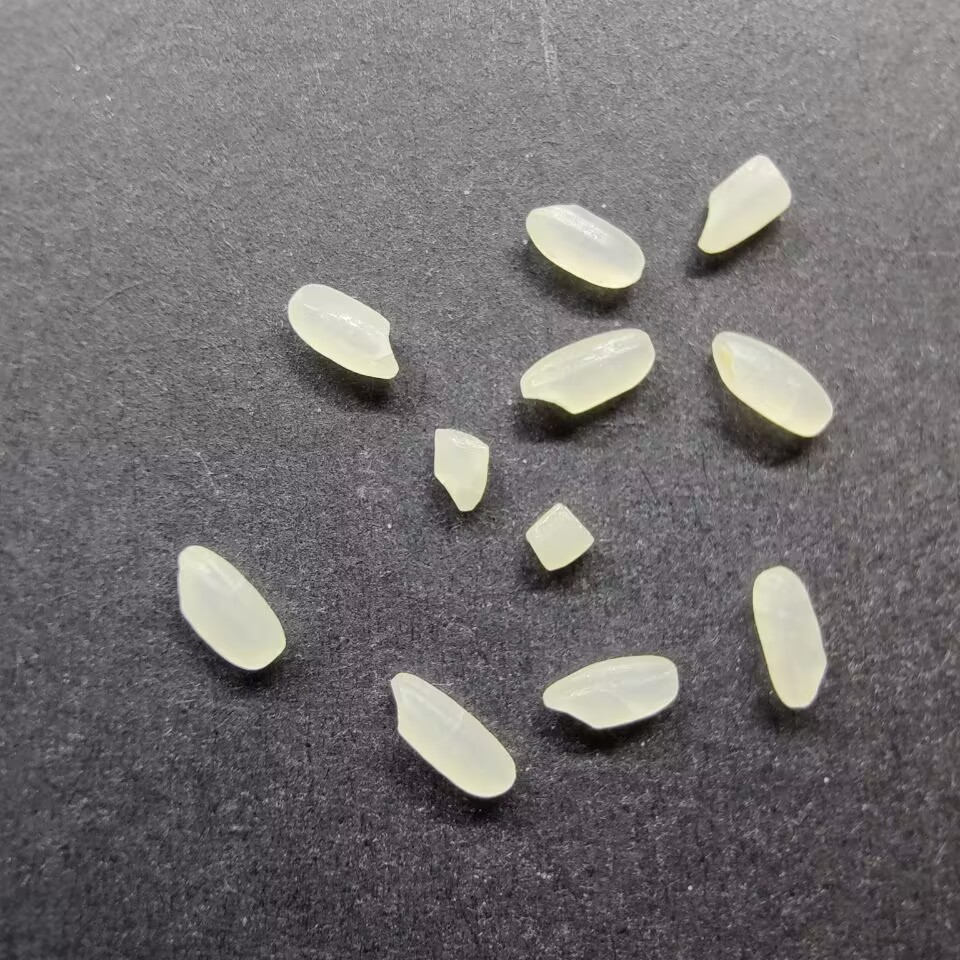broken: (694, 152, 793, 257), (523, 499, 597, 574), (432, 424, 490, 516)
rice: (388, 668, 518, 800), (709, 327, 837, 439), (175, 544, 286, 672), (517, 329, 657, 416), (750, 564, 829, 710), (287, 281, 400, 382), (539, 654, 680, 732), (522, 202, 646, 289)
